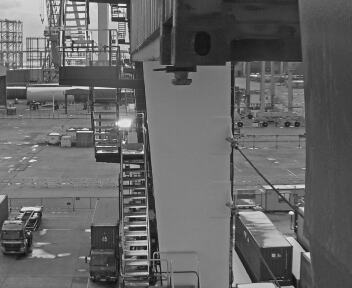twist_lock_1: (160, 60, 202, 93)
